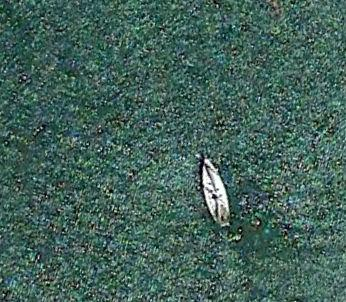Ships: (196, 144, 242, 238)
